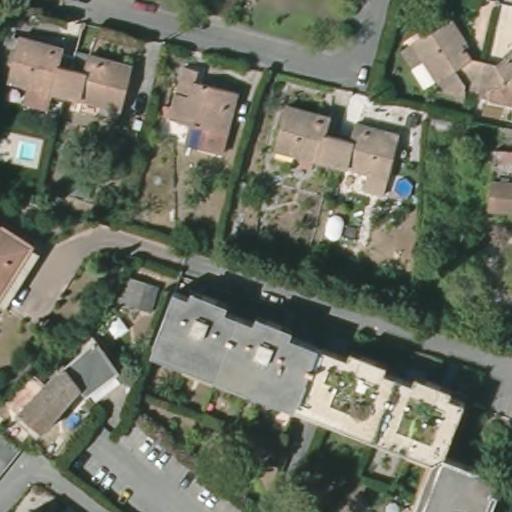pool: (11, 137, 41, 163), (395, 174, 416, 201)
